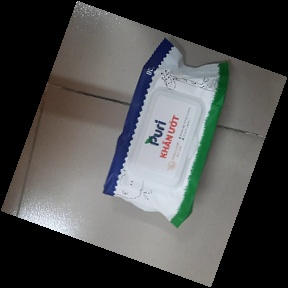Puri Trang: (102, 36, 232, 230)
